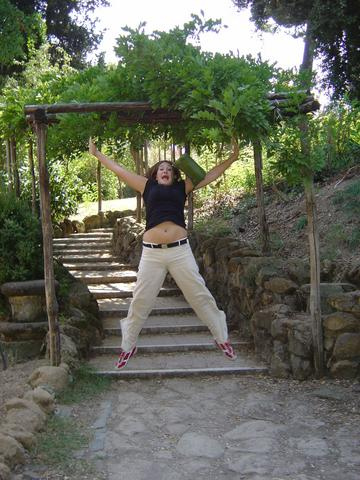person: (88, 135, 243, 370)
